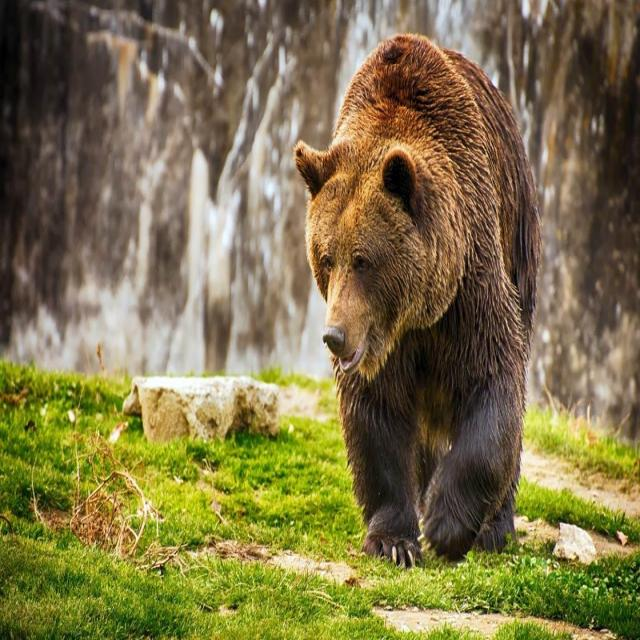Bear: (292, 34, 542, 570)
